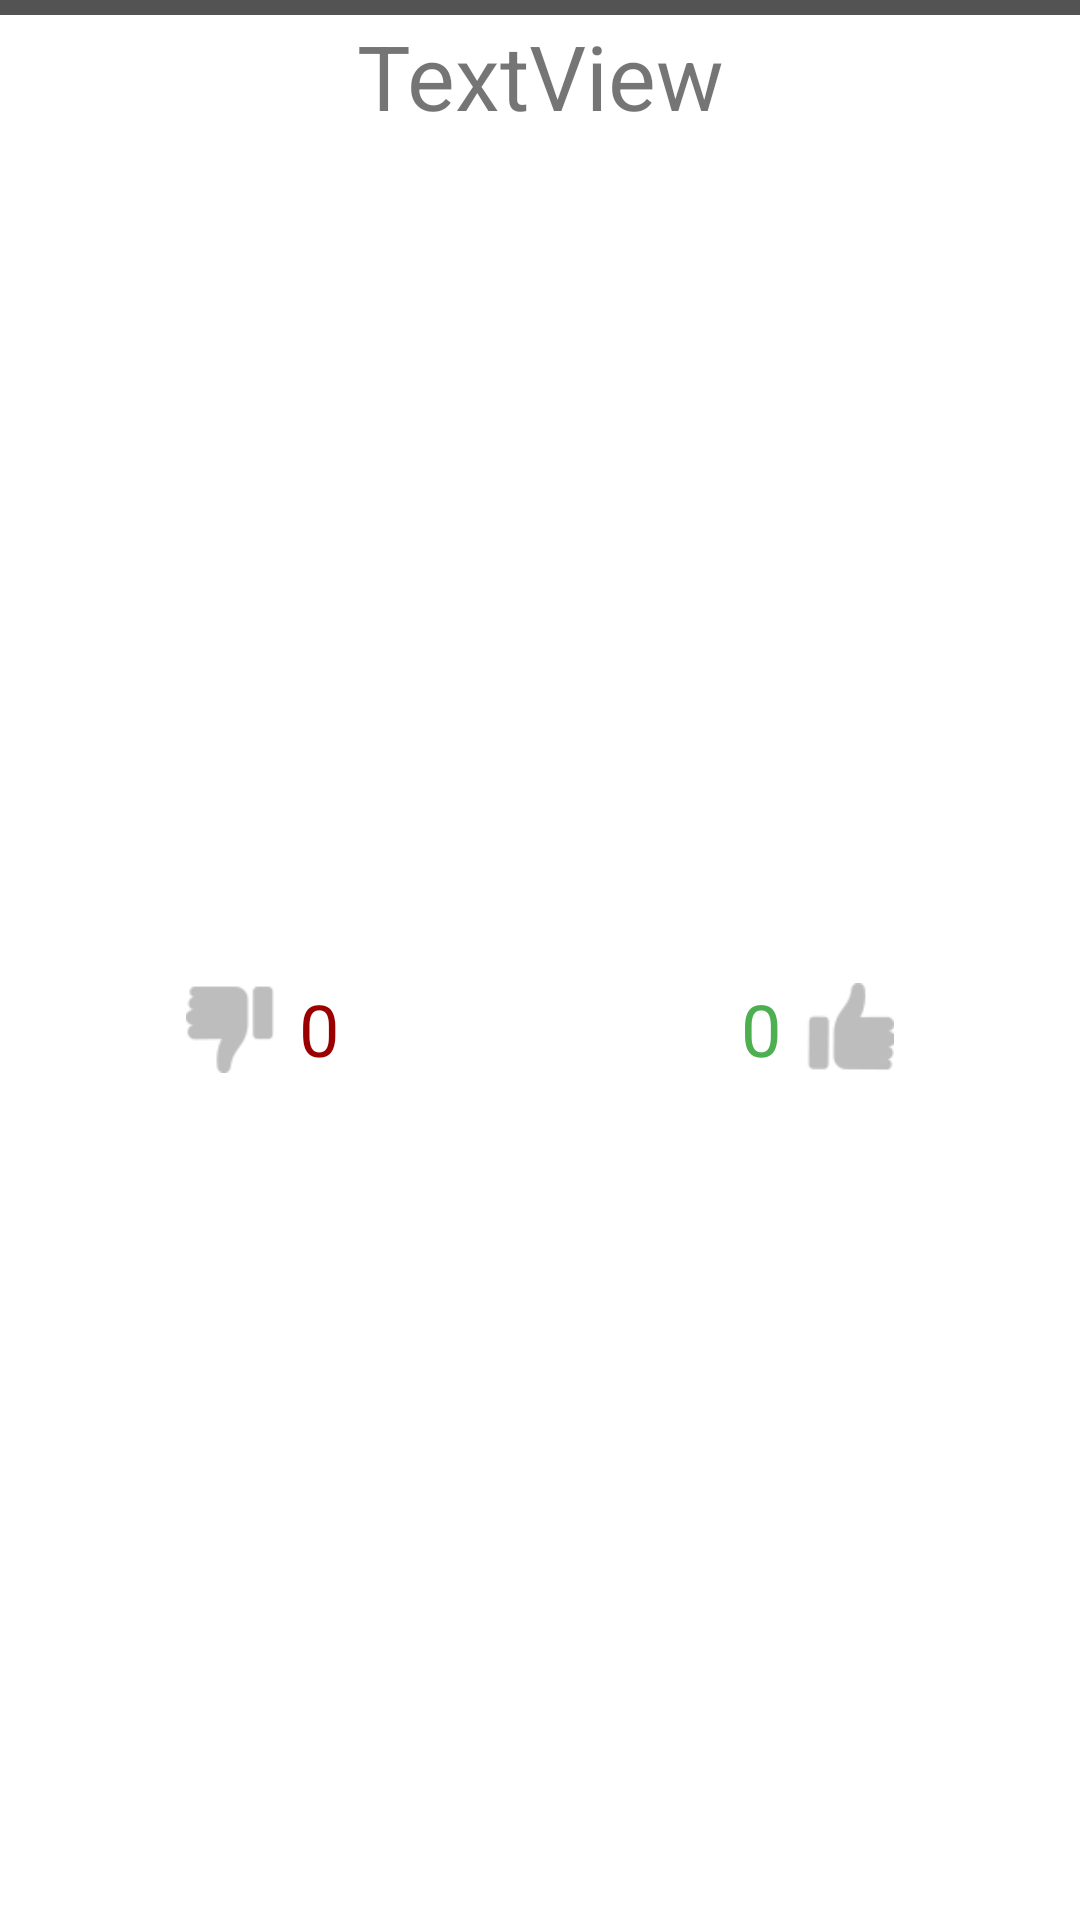

Icons on this 1080px x 1920px Android screen, each with its box as (x1, y1, x2, y2):
dilike: (186, 986, 273, 1073)
like: (808, 983, 894, 1070)
